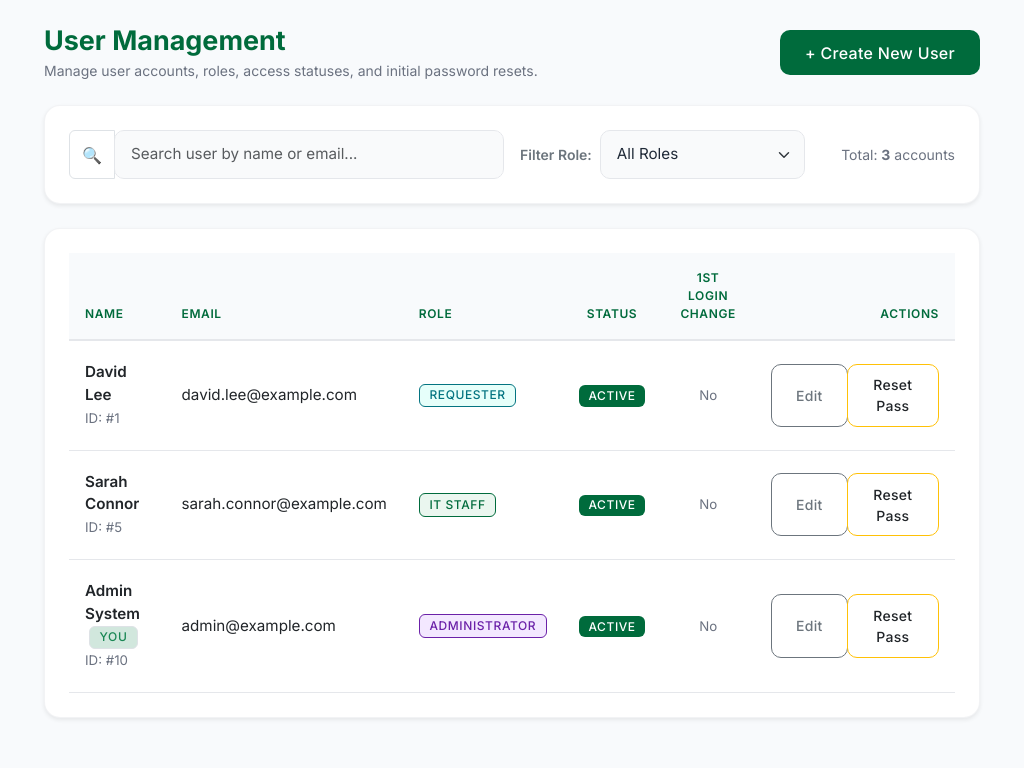
Test: UI-05 (AC-17, AC-18, AC-19, AC-20, AC-22): User Management Component Tests › disables active status switch when editing self to enforce BR-19
Expected: the text "admin@example.com" is shown, [166,559,403,693]
Step 1. Click the button "Edit" in the row of "Admin System" → (809, 626), box [771,594,848,658]
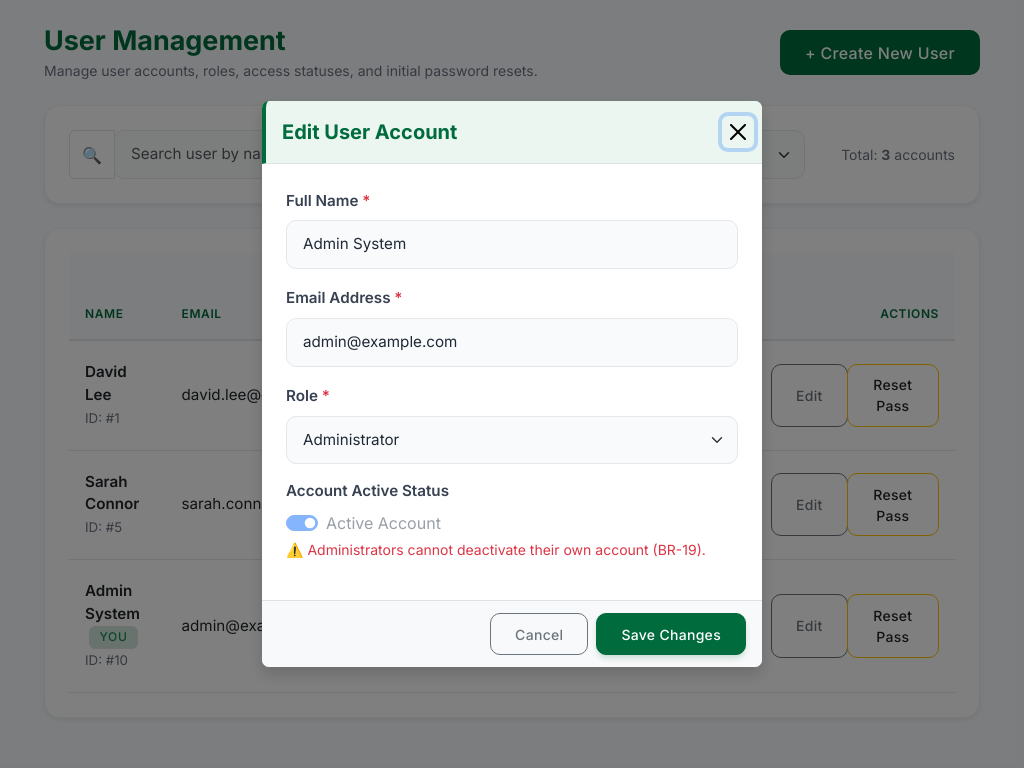
Result: the heading "Edit User Account" is shown at [282,117,457,147]
Result: the checkbox labelled "Active Account" is disabled at [286,515,318,531]
Result: the text "Administrators cannot deactivate their own account" is shown at [286,541,706,558]
